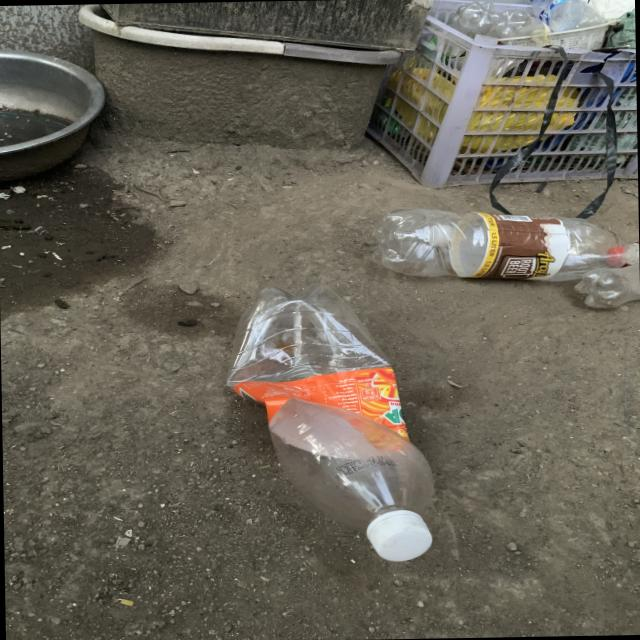Bottle: (227, 285, 433, 561)
